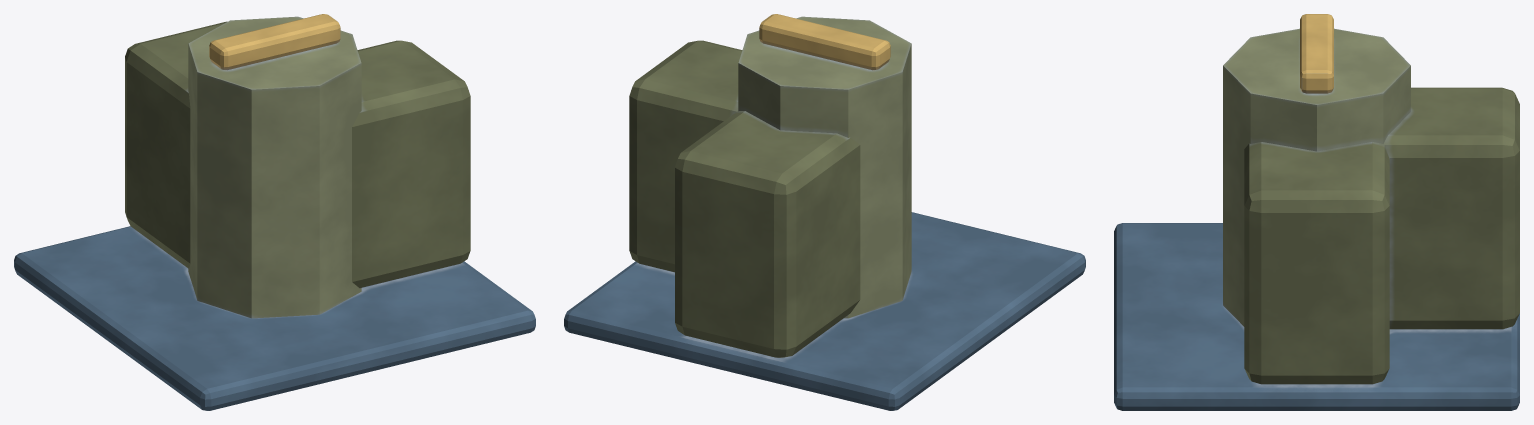
The model's file is com_wall_corner.glb.
3 views of the same model, side by side, from view 1: azimuth 30°, elevation 25°; view 2: azimuth 150°, elevation 25°; view 3: azimuth 270°, elevation 25° (orthographic). The views are drawn at different scales.
Visible parts, largest first — view 1: com_wall_corner; view 2: com_wall_corner; view 3: com_wall_corner.
Boxes of the visible parts, bbox=[...] form: com_wall_corner: bbox=[14, 14, 535, 410]; com_wall_corner: bbox=[564, 14, 1085, 410]; com_wall_corner: bbox=[1114, 14, 1519, 410].
Bounding box in the file's own units: 0.95 × 0.74 × 0.95.
Materials: 1 (1 with a texture image).
